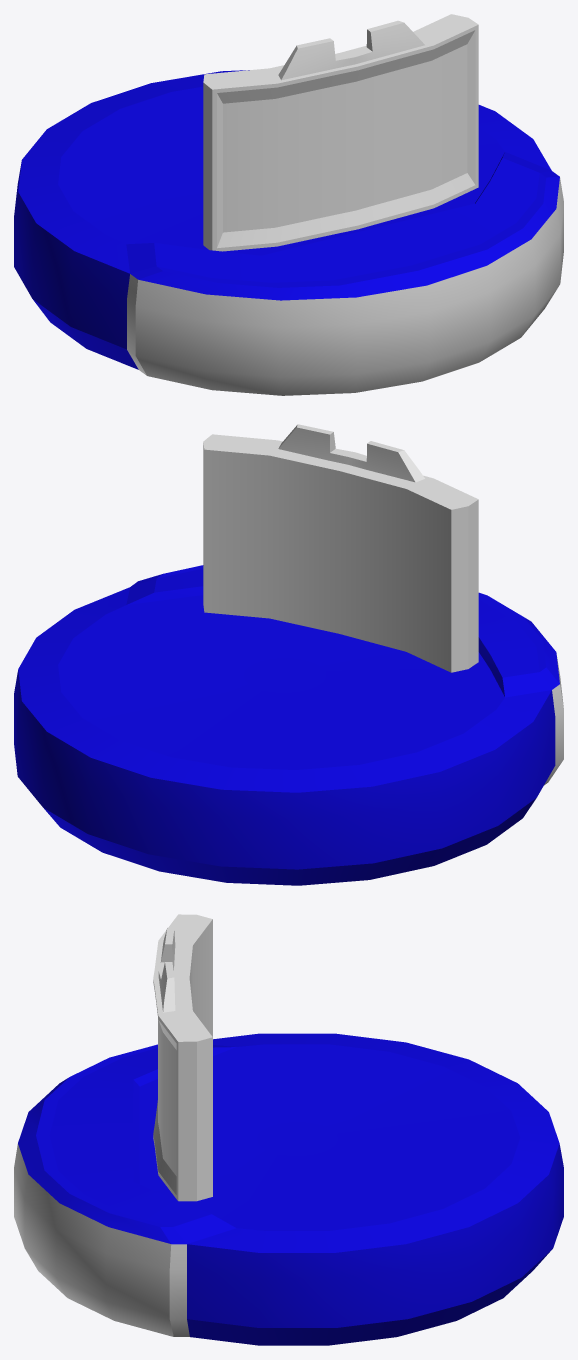
The model's file is Roomba_Explosive.fbx.
The picture shows the model from 3 angles, top to bottom: view 1: azimuth 30°, elevation 25°; view 2: azimuth 150°, elevation 25°; view 3: azimuth 270°, elevation 25°; orthographic projection. The views are drawn at different scales.
Parts seen in each view (by area): view 1: Roomba_Base, Claymore; view 2: Roomba_Base, Claymore; view 3: Roomba_Base, Claymore.
Part boxes in pixels (x1=…): Roomba_Base: x1=14, y1=70, x2=563, y2=395; Claymore: x1=203, y1=14, x2=478, y2=251; Roomba_Base: x1=14, y1=565, x2=563, y2=885; Claymore: x1=203, y1=424, x2=478, y2=672; Roomba_Base: x1=14, y1=1033, x2=563, y2=1345; Claymore: x1=153, y1=914, x2=212, y2=1201.
Bounding box in the file's own units: 146 × 87.98 × 152.
